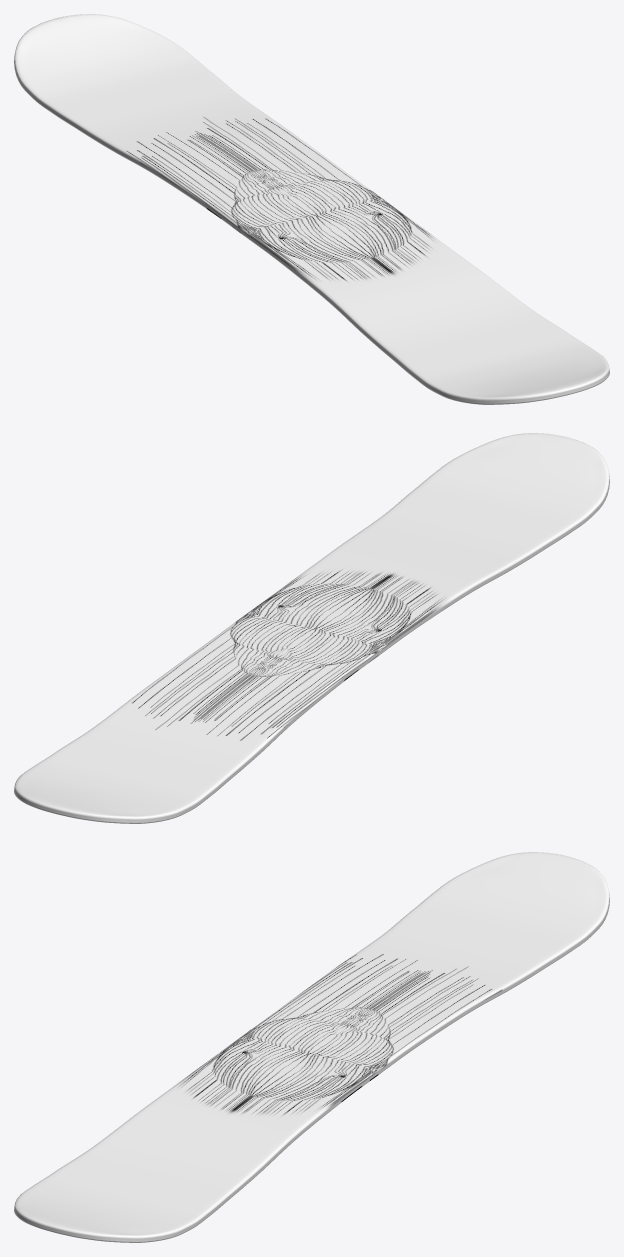
Rendered from ski3.glb.
3 renders of one model, top to bottom at view 1: azimuth 30°, elevation 25°; view 2: azimuth 150°, elevation 25°; view 3: azimuth 330°, elevation 25°, orthographic.
Parts seen in each view (by area): view 1: 3; view 2: 3; view 3: 3.
Boxes of the visible parts, bbox=[...] form: 3: bbox=[14, 14, 609, 404]; 3: bbox=[14, 433, 609, 823]; 3: bbox=[14, 852, 609, 1242].
Bounding box in the file's own units: 32.15 × 4.68 × 178.
Materials: 3 (2 with a texture image).
